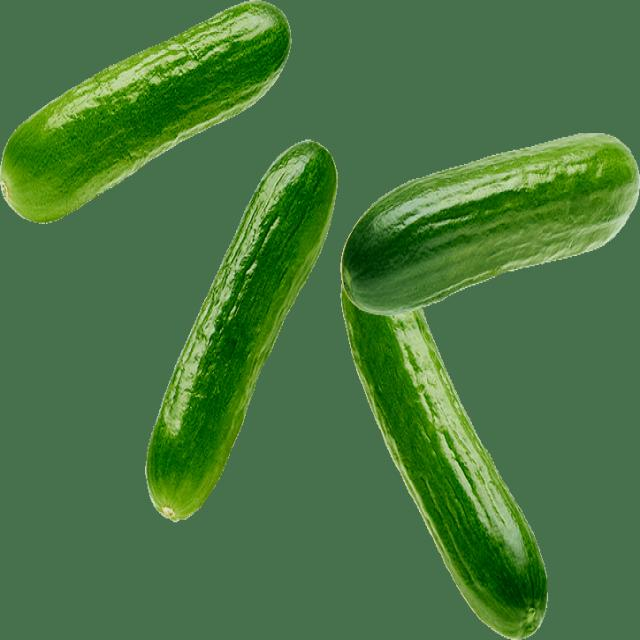Pickle: (146, 141, 336, 520), (343, 290, 548, 638), (0, 2, 291, 223), (341, 134, 640, 314)
